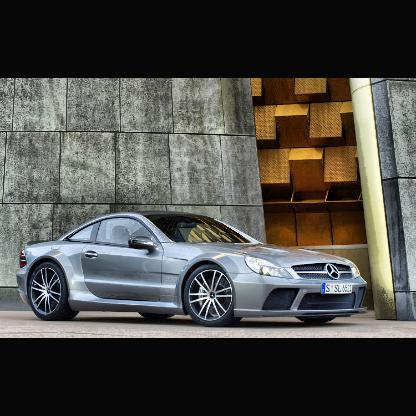Mercedes-Benz SL-Class Coupe 2009: (16, 214, 367, 326)
